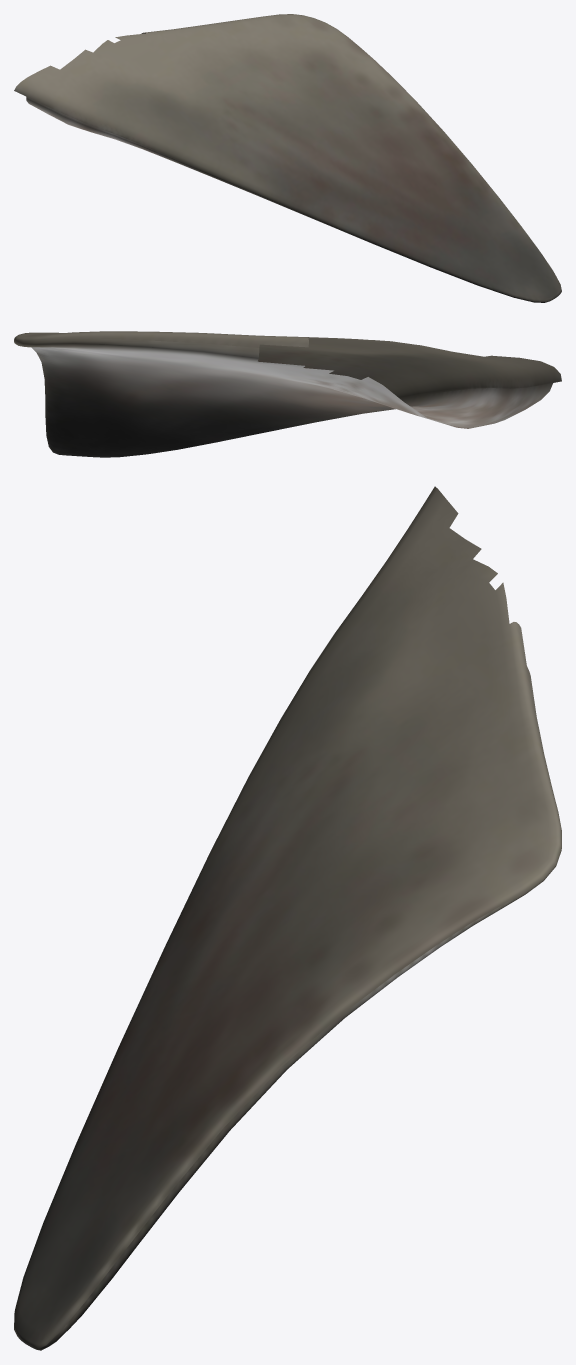
File: aletaizq1.obj
3 views of the same model, one above another, from view 1: azimuth 30°, elevation 25°; view 2: azimuth 150°, elevation 25°; view 3: azimuth 270°, elevation 25° (orthographic). The views are drawn at different scales.
Visible parts, largest first — view 1: polySurface5 polySurface4 polySurface2 _Shark_v2_L1:_Shark_v2; view 2: polySurface5 polySurface4 polySurface2 _Shark_v2_L1:_Shark_v2; view 3: polySurface5 polySurface4 polySurface2 _Shark_v2_L1:_Shark_v2.
Part boxes in pixels (x1=…): polySurface5 polySurface4 polySurface2 _Shark_v2_L1:_Shark_v2: x1=14, y1=14, x2=561, y2=302; polySurface5 polySurface4 polySurface2 _Shark_v2_L1:_Shark_v2: x1=14, y1=331, x2=561, y2=457; polySurface5 polySurface4 polySurface2 _Shark_v2_L1:_Shark_v2: x1=14, y1=486, x2=561, y2=1350.
Size of the model in its own units: 0.9925 by 0.5269 by 0.5565.
Materials: 1 (1 with a texture image).
